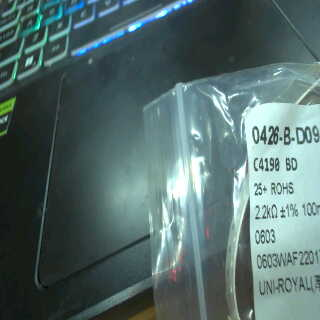2.2kR: (252, 198, 280, 224)
